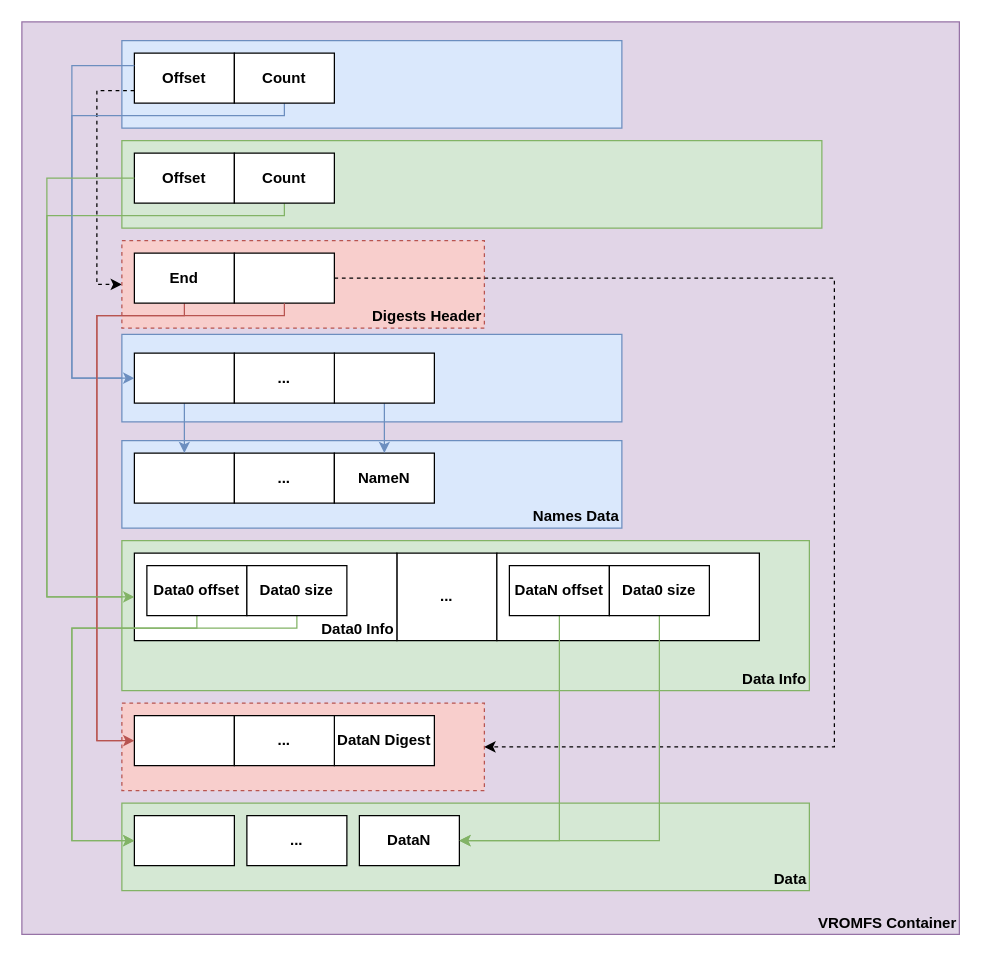
The diagram is 981 pixels wide and 956 high, and some of its shapes have lost their labels. The box of each missing label's shape, as (x1, y1, x2, y2) in pixels:
Begin: (233, 252, 334, 303)
Data Header: (121, 139, 822, 228)
Data0: (133, 814, 234, 866)
Data0 Digest: (133, 714, 234, 766)
DataN Info: (496, 552, 759, 641)
Digests Data: (121, 702, 484, 791)
Name0: (133, 452, 234, 503)
Name0 offset: (133, 352, 234, 403)
NameN offset: (333, 352, 434, 403)
Names Header: (121, 39, 622, 128)
Names Info: (121, 333, 622, 422)
